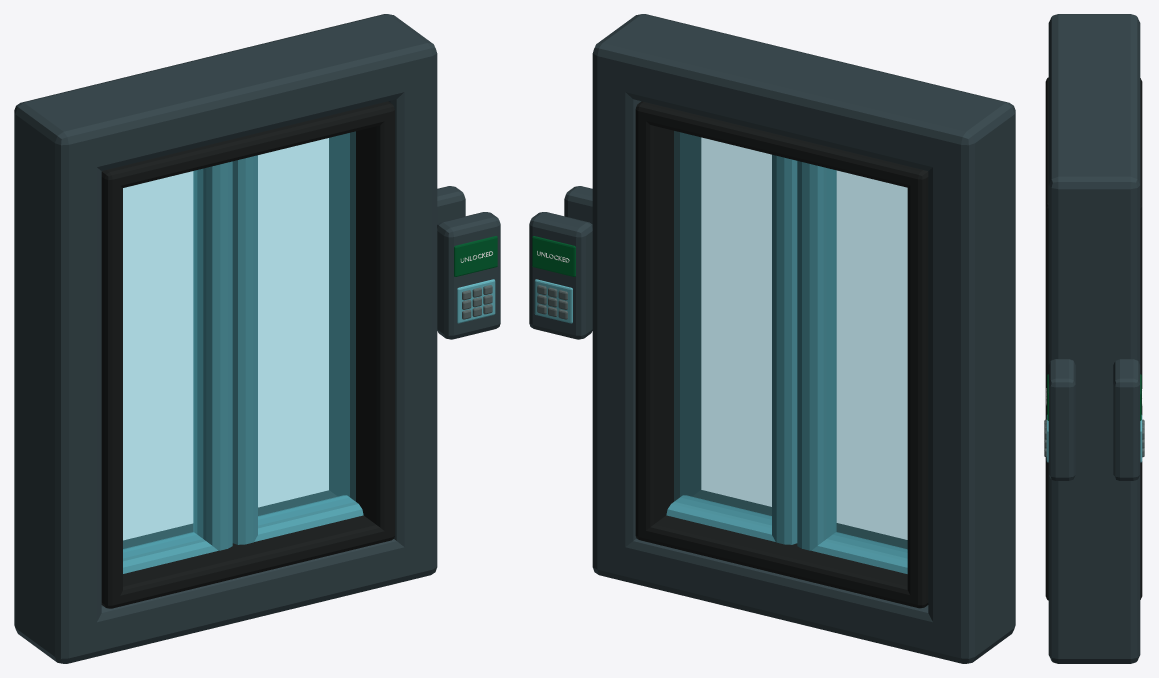
The model's file is Porte vitree coulissante.glb.
3 views of the same model, side by side, from view 1: azimuth 30°, elevation 25°; view 2: azimuth 150°, elevation 25°; view 3: azimuth 270°, elevation 25° (orthographic). The views are drawn at different scales.
Visible parts, largest first — view 1: GLASS_SLIDE_Frame_Left, GLASS_SLIDE_Right_Glass_Insert, GLASS_SLIDE_Frame_Top, GLASS_SLIDE_Left_Glass_Insert, GLASS_SLIDE_Inner_Rubber_Seal_Right, GLASS_SLIDE_Frame_Right, GLASS_SLIDE_Frame_Bottom_Threshold, GLASS_SLIDE_Left_Right_Stile, GLASS_SLIDE_Right_Left_Stile, GLASS_SLIDE_Inner_Rubber_Seal_Bottom, GLASS_SLIDE_Inner_Rubber_Seal_Left, GLASS_SLIDE_Inner_Rubber_Seal_Top (+6 smaller); view 2: GLASS_SLIDE_Frame_Left, GLASS_SLIDE_Right_Glass_Insert, GLASS_SLIDE_Left_Glass_Insert, GLASS_SLIDE_Frame_Top, GLASS_SLIDE_Inner_Rubber_Seal_Right, GLASS_SLIDE_Frame_Right, GLASS_SLIDE_Frame_Bottom_Threshold, GLASS_SLIDE_Left_Right_Stile, GLASS_SLIDE_Right_Left_Stile, GLASS_SLIDE_Inner_Rubber_Seal_Bottom, GLASS_SLIDE_Inner_Rubber_Seal_Left, GLASS_SLIDE_Inner_Rubber_Seal_Top (+6 smaller); view 3: GLASS_SLIDE_Frame_Right, GLASS_SLIDE_Frame_Top, GLASS_SLIDE_Back_Electronic_Control_Block, GLASS_SLIDE_Front_Electronic_Control_Block, GLASS_SLIDE_Frame_Bottom_Threshold, GLASS_SLIDE_Inner_Rubber_Seal_Right, GLASS_SLIDE_Frame_Left, GLASS_SLIDE_Inner_Rubber_Seal_Top.
Boxes of the visible parts, x1,y1,x2,y2 form: GLASS_SLIDE_Frame_Left: (14, 96, 101, 663); GLASS_SLIDE_Right_Glass_Insert: (258, 131, 355, 524); GLASS_SLIDE_Frame_Top: (17, 14, 434, 173); GLASS_SLIDE_Left_Glass_Insert: (123, 169, 202, 557); GLASS_SLIDE_Inner_Rubber_Seal_Right: (329, 101, 394, 542); GLASS_SLIDE_Frame_Right: (358, 14, 437, 581); GLASS_SLIDE_Frame_Bottom_Threshold: (15, 539, 435, 663); GLASS_SLIDE_Left_Right_Stile: (193, 161, 232, 550); GLASS_SLIDE_Right_Left_Stile: (232, 155, 257, 544); GLASS_SLIDE_Inner_Rubber_Seal_Bottom: (101, 490, 394, 608); GLASS_SLIDE_Inner_Rubber_Seal_Left: (101, 168, 122, 608); GLASS_SLIDE_Inner_Rubber_Seal_Top: (102, 103, 394, 187); GLASS_SLIDE_Frame_Left: (928, 96, 1015, 663); GLASS_SLIDE_Right_Glass_Insert: (674, 131, 771, 524); GLASS_SLIDE_Left_Glass_Insert: (827, 168, 907, 557); GLASS_SLIDE_Frame_Top: (596, 14, 1010, 173); GLASS_SLIDE_Inner_Rubber_Seal_Right: (635, 101, 701, 538); GLASS_SLIDE_Frame_Right: (592, 14, 670, 581); GLASS_SLIDE_Frame_Bottom_Threshold: (594, 538, 1014, 663); GLASS_SLIDE_Left_Right_Stile: (797, 161, 836, 550); GLASS_SLIDE_Right_Left_Stile: (772, 154, 797, 544); GLASS_SLIDE_Inner_Rubber_Seal_Bottom: (636, 490, 928, 607); GLASS_SLIDE_Inner_Rubber_Seal_Left: (907, 168, 928, 608); GLASS_SLIDE_Inner_Rubber_Seal_Top: (639, 103, 927, 187); GLASS_SLIDE_Frame_Right: (1048, 164, 1140, 663); GLASS_SLIDE_Frame_Top: (1048, 16, 1140, 214); GLASS_SLIDE_Back_Electronic_Control_Block: (1113, 359, 1140, 480); GLASS_SLIDE_Front_Electronic_Control_Block: (1048, 359, 1075, 480); GLASS_SLIDE_Frame_Bottom_Threshold: (1050, 632, 1138, 662); GLASS_SLIDE_Inner_Rubber_Seal_Right: (1045, 199, 1142, 596); GLASS_SLIDE_Frame_Left: (1048, 14, 1140, 34); GLASS_SLIDE_Inner_Rubber_Seal_Top: (1045, 81, 1142, 215).
Bounding box in the file's own units: 1.75 × 2 × 0.374.
